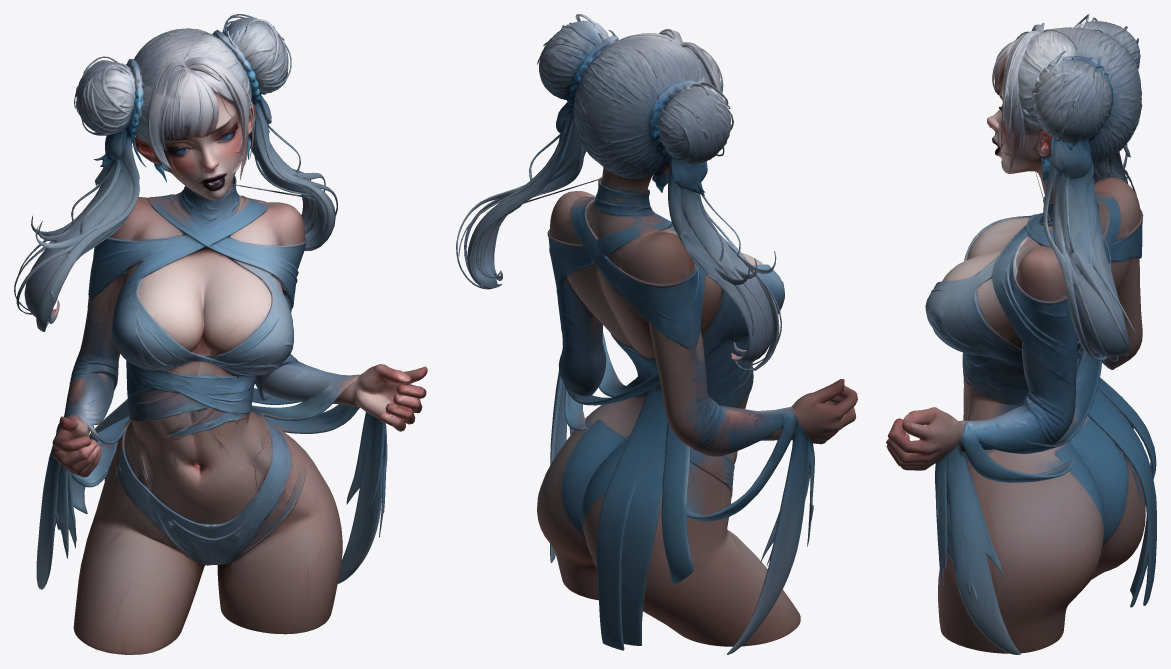
The picture shows the model from 3 angles, left to right: view 1: azimuth 30°, elevation 25°; view 2: azimuth 150°, elevation 25°; view 3: azimuth 270°, elevation 25°; orthographic projection. The views are drawn at different scales.
Visible parts, largest first — view 1: node_0; view 2: node_0; view 3: node_0.
Boxes of the visible parts, x1,y1,x2,y2 form: node_0: (14,14,427,654); node_0: (456,14,857,654); node_0: (886,14,1156,654).
Bounding box in the file's own units: 0.6669 × 1.1 × 0.4671.
1 material, 1 textured.
